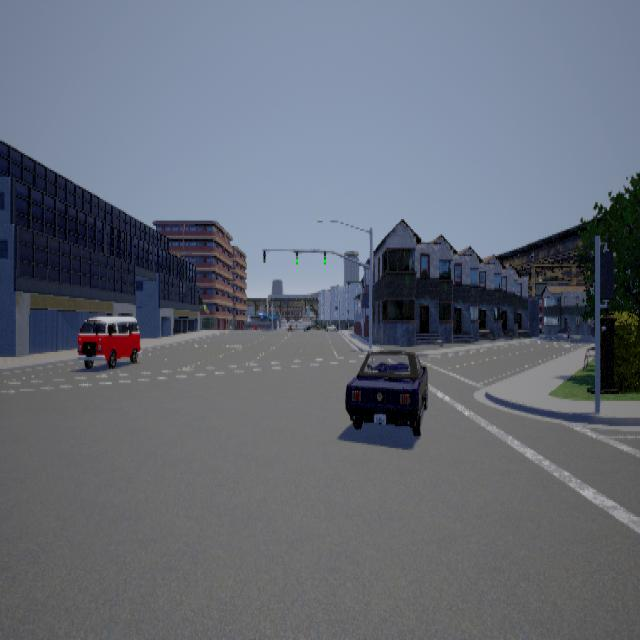green_light: (296, 250, 298, 264), (324, 250, 326, 263)
traffic_light: (262, 249, 265, 261)
vehicle: (344, 348, 427, 434), (76, 315, 140, 367)
